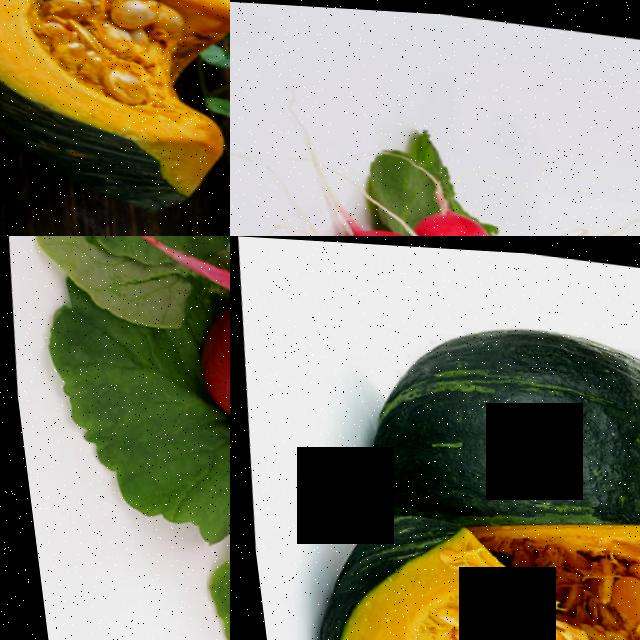pumpkin: (338, 299, 640, 567), (273, 501, 640, 640), (0, 0, 230, 217)
radishes: (148, 236, 230, 640), (274, 183, 640, 236)
